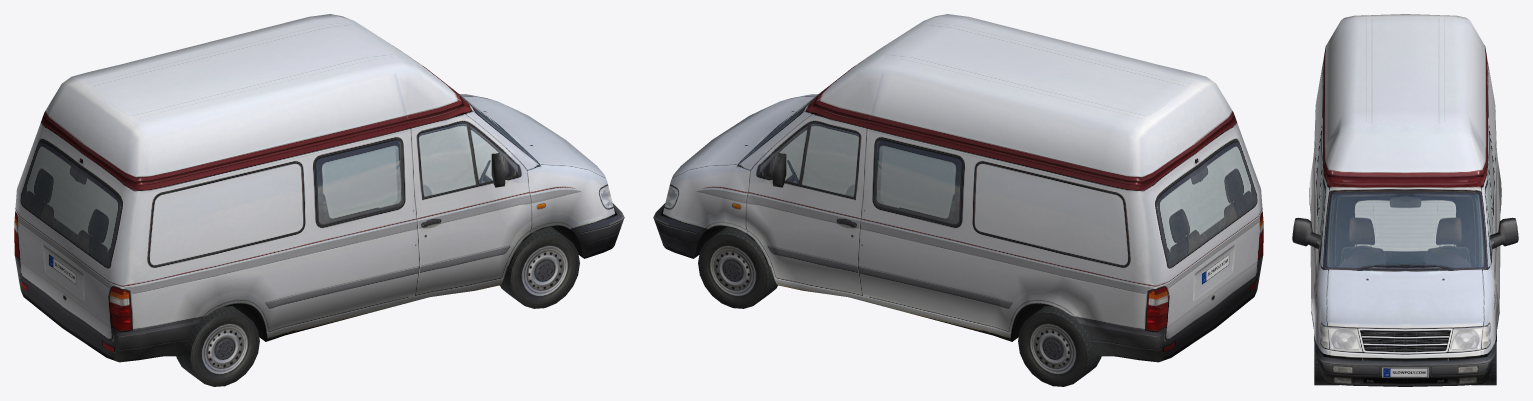
Rendered from car-van.glb.
3 renders of one model, left to right at view 1: azimuth 30°, elevation 25°; view 2: azimuth 150°, elevation 25°; view 3: azimuth 270°, elevation 25°, orthographic. The views are drawn at different scales.
Parts seen in each view (by area): view 1: Object_2; view 2: Object_2; view 3: Object_2.
Boxes of the visible parts, x1=… form: Object_2: x1=14, y1=14, x2=624, y2=386; Object_2: x1=653, y1=14, x2=1263, y2=386; Object_2: x1=1292, y1=14, x2=1518, y2=386.
Bounding box in the file's own units: 5 × 2.39 × 2.28.
Materials: 1 (1 with a texture image).
